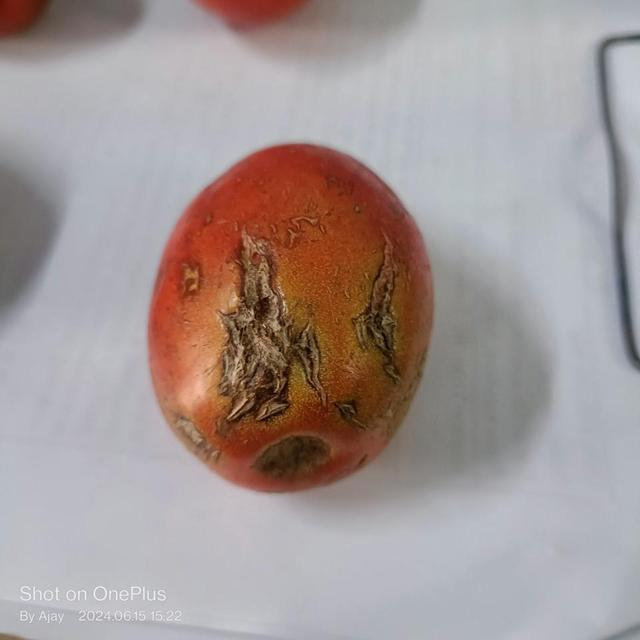Cracking Fruit: (115, 207, 150, 254)
